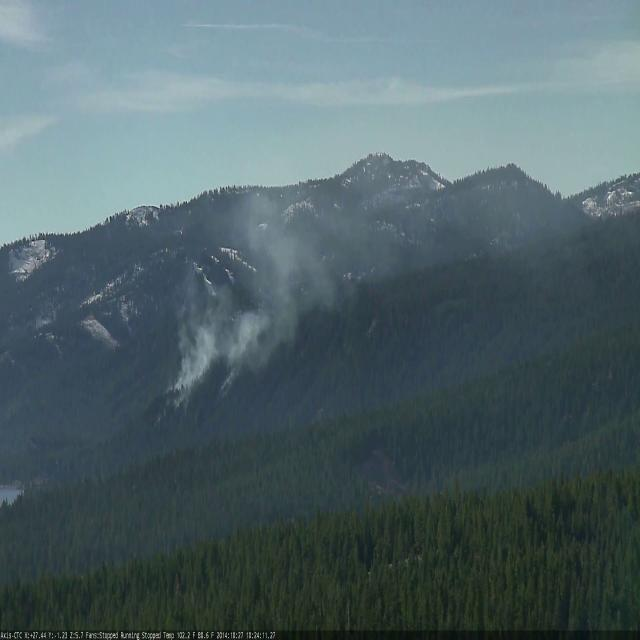smoke: (149, 149, 400, 436)
